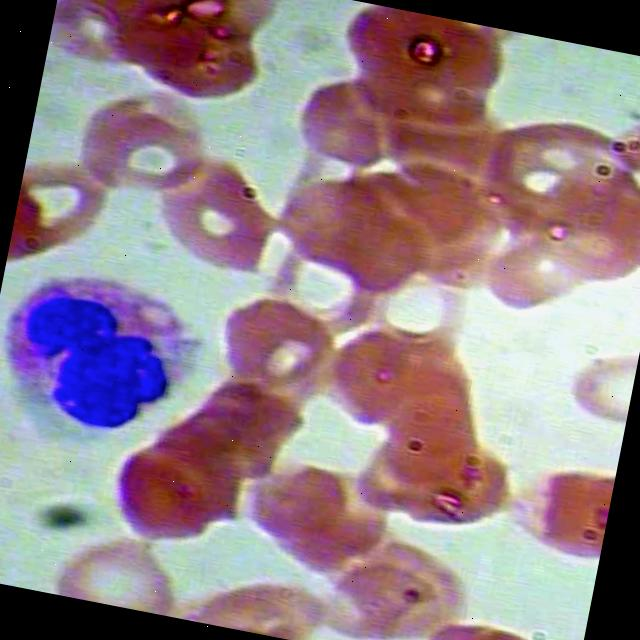RBC: (456, 93, 639, 237), (139, 134, 293, 296), (328, 0, 512, 119), (100, 0, 283, 116), (56, 79, 206, 202), (301, 308, 434, 441), (42, 514, 200, 618), (170, 386, 304, 497), (342, 247, 476, 358), (204, 284, 336, 396), (139, 400, 272, 511), (100, 447, 233, 558), (282, 66, 416, 176), (250, 232, 384, 342), (194, 342, 326, 453), (181, 552, 333, 640), (466, 218, 584, 325), (307, 546, 440, 640), (8, 152, 110, 274), (46, 0, 176, 78), (550, 333, 640, 434)
WBC: (0, 241, 226, 459)
